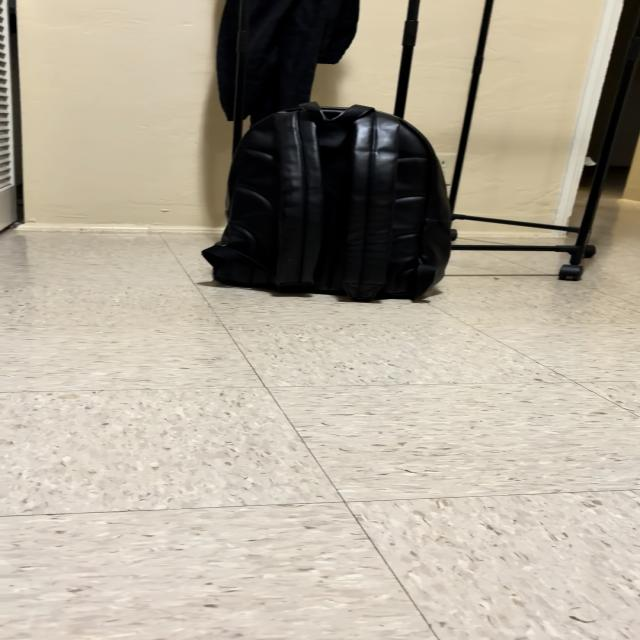backpack: (203, 103, 451, 301)
